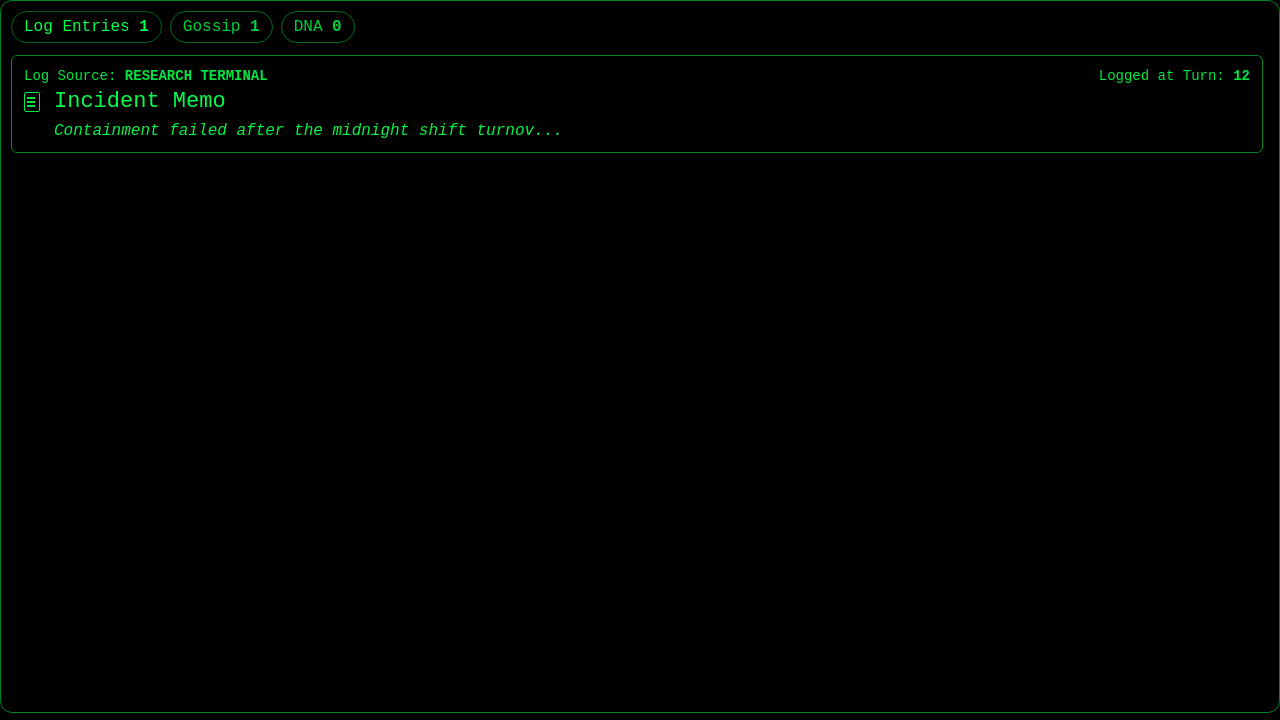
gossip system › splits log entries, gossip, and DNA into separate subtabs
Expected: the text "Incident Memo" is shown, [54,89,226,114]
Expected: the text "Director Affair" is not shown
Step 1. Click the tab "Gossip 1" → x=221, y=27, box [170,11,273,43]
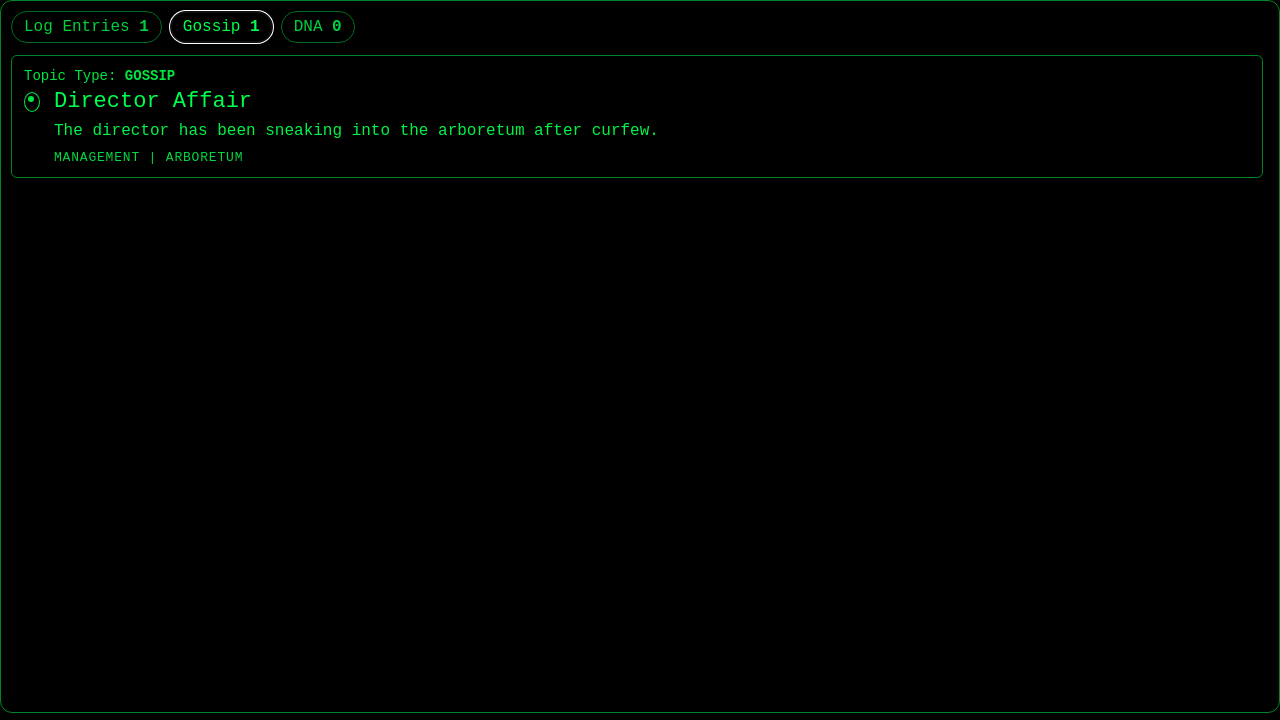
Result: the text "Director Affair" is shown at [54,89,252,114]
Result: the text "The director has been sneaking into the arboretum after curfew." is shown at [54,122,659,140]
Result: the button "Incident Memo" is gone
